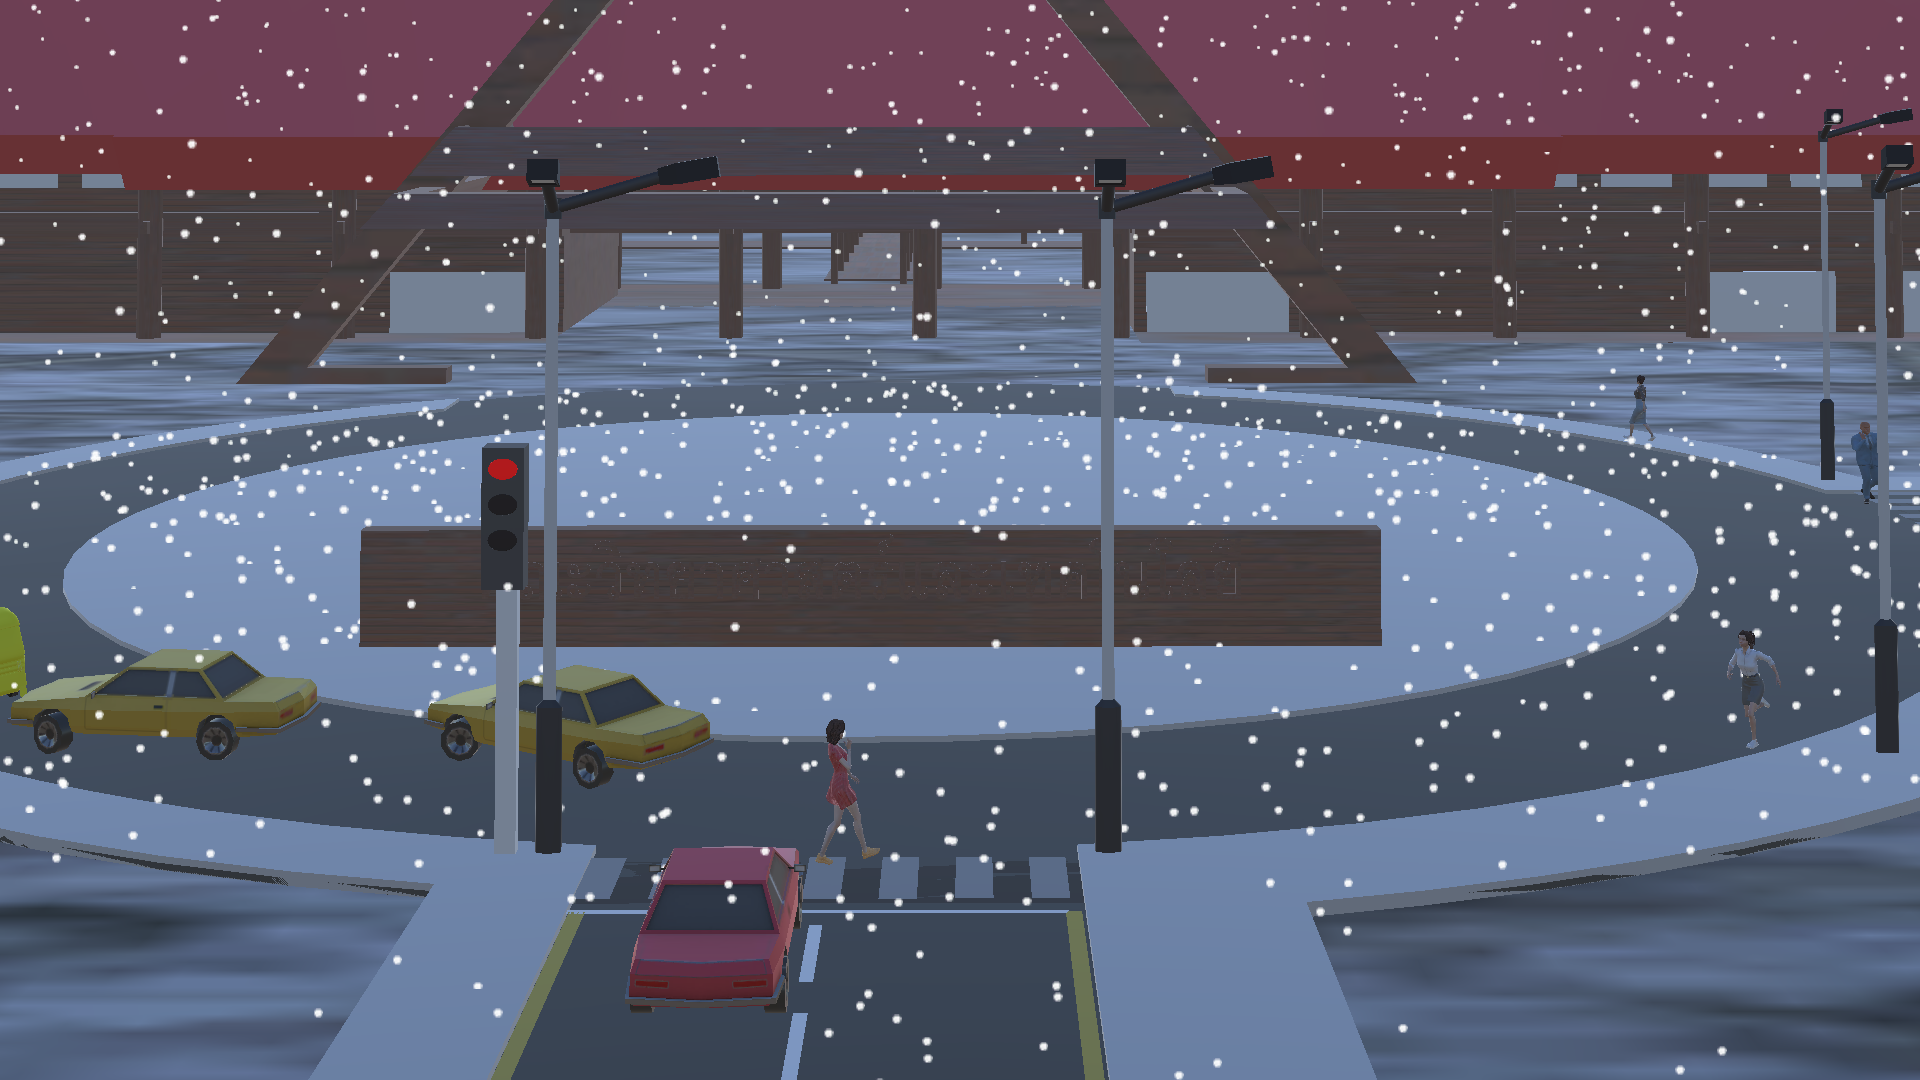pedestrian: (811, 710, 887, 874), (1722, 629, 1784, 756), (1849, 417, 1889, 507), (1624, 370, 1665, 451)
